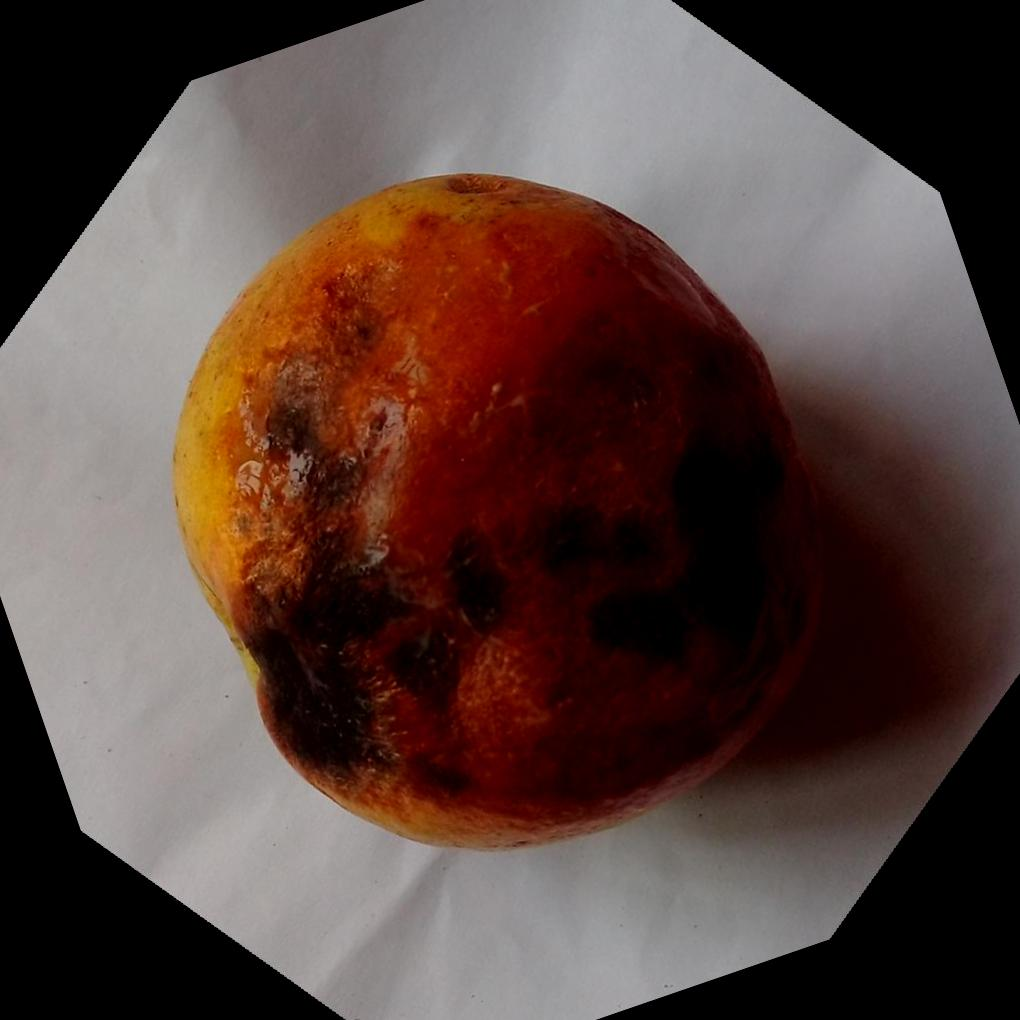FreshOrange: (169, 173, 828, 858)
